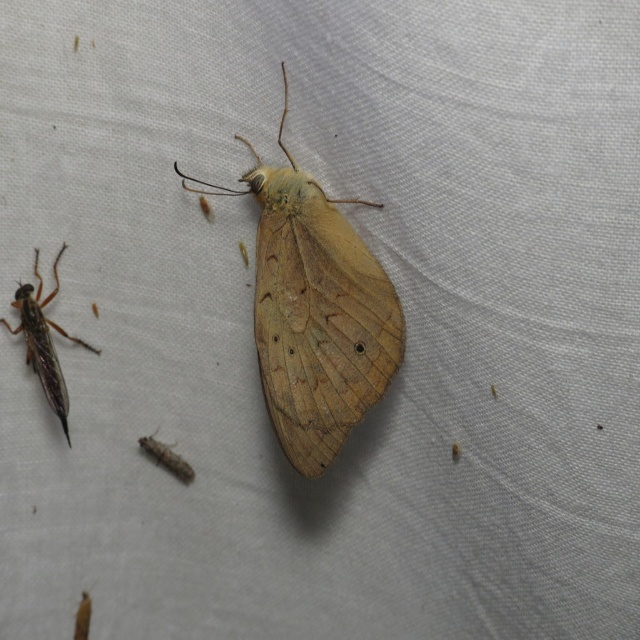Moths and butterflies: (174, 60, 408, 482)
